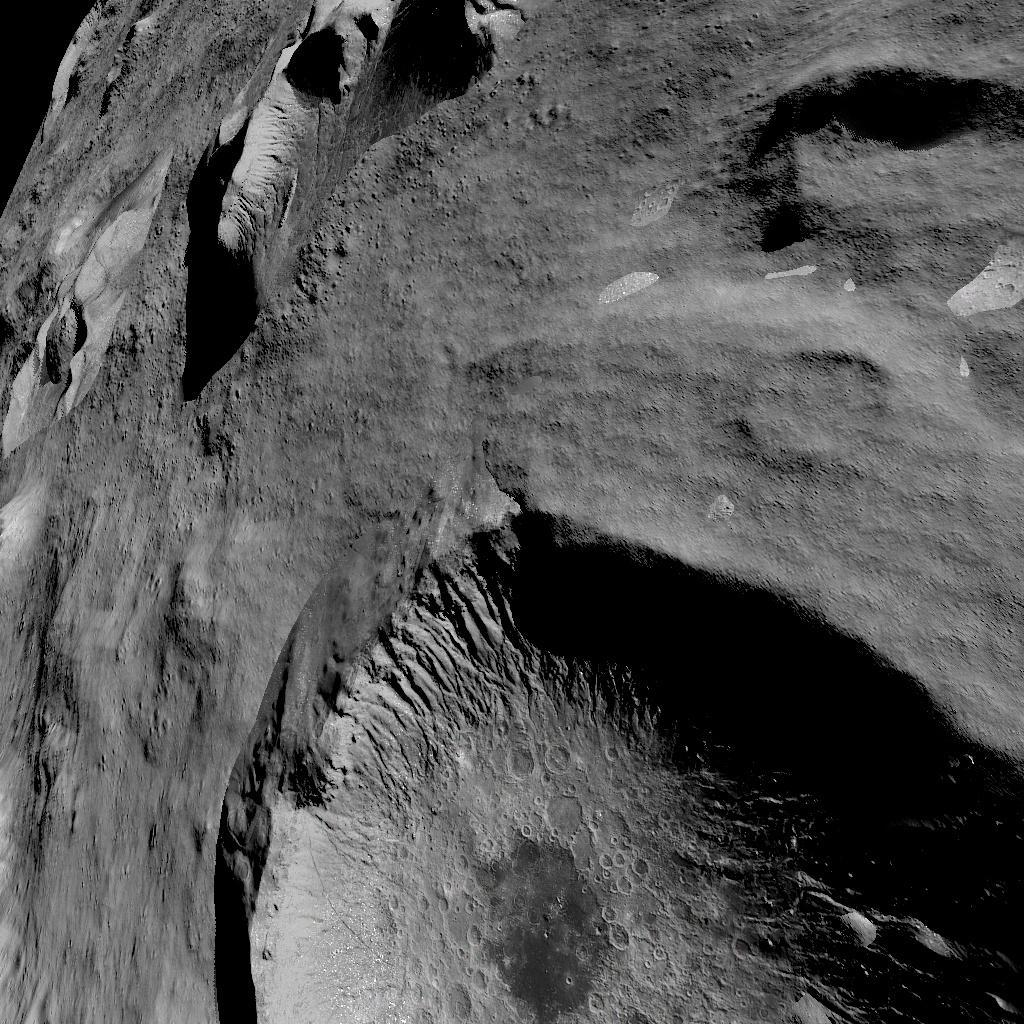Boulders: (202, 0, 532, 401), (30, 137, 189, 425)
Crater: (237, 496, 1024, 1024), (760, 37, 1020, 278), (736, 324, 942, 471)
Plan surface: (543, 0, 714, 477)
